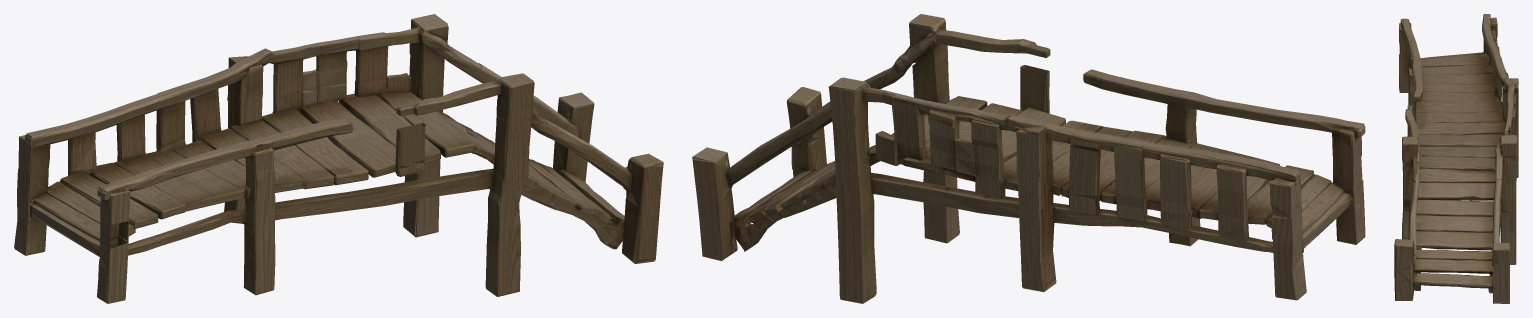
Rendered from Puente.glb.
3 renders of one model, left to right at view 1: azimuth 30°, elevation 25°; view 2: azimuth 150°, elevation 25°; view 3: azimuth 270°, elevation 25°, orthographic. The views are drawn at different scales.
Visible parts, largest first — view 1: tripo_node_a714cf0f-c74f-4be0-9b7f-090f90b4be60; view 2: tripo_node_a714cf0f-c74f-4be0-9b7f-090f90b4be60; view 3: tripo_node_a714cf0f-c74f-4be0-9b7f-090f90b4be60.
Part boxes in pixels (left/top/right/bottom): tripo_node_a714cf0f-c74f-4be0-9b7f-090f90b4be60: left=14, top=14, right=663, bottom=303; tripo_node_a714cf0f-c74f-4be0-9b7f-090f90b4be60: left=692, top=14, right=1365, bottom=303; tripo_node_a714cf0f-c74f-4be0-9b7f-090f90b4be60: left=1394, top=14, right=1518, bottom=303.
Size of the model in its own units: 4.57 by 1.63 by 1.41.
Materials: 1 (1 with a texture image).
